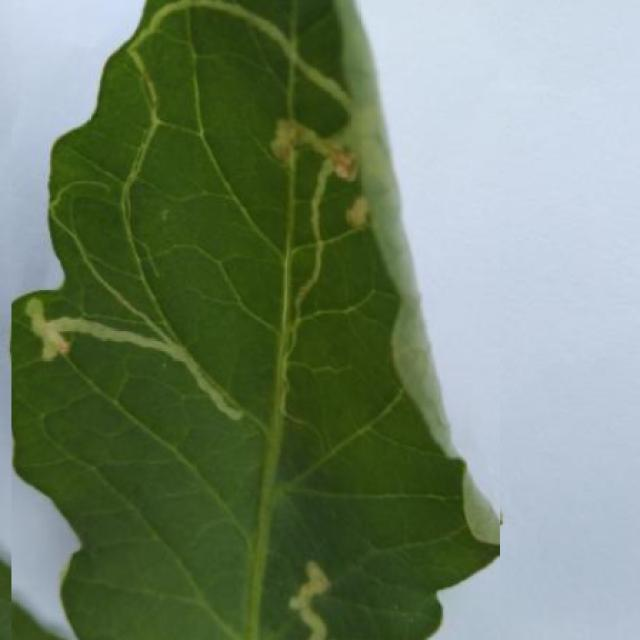Leaf Miner: (11, 0, 500, 640)
